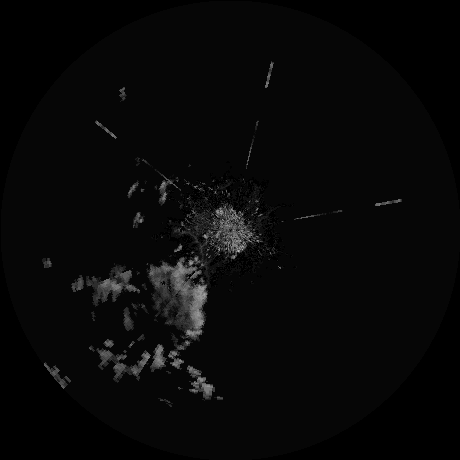frontgust: (178, 230, 207, 279)
